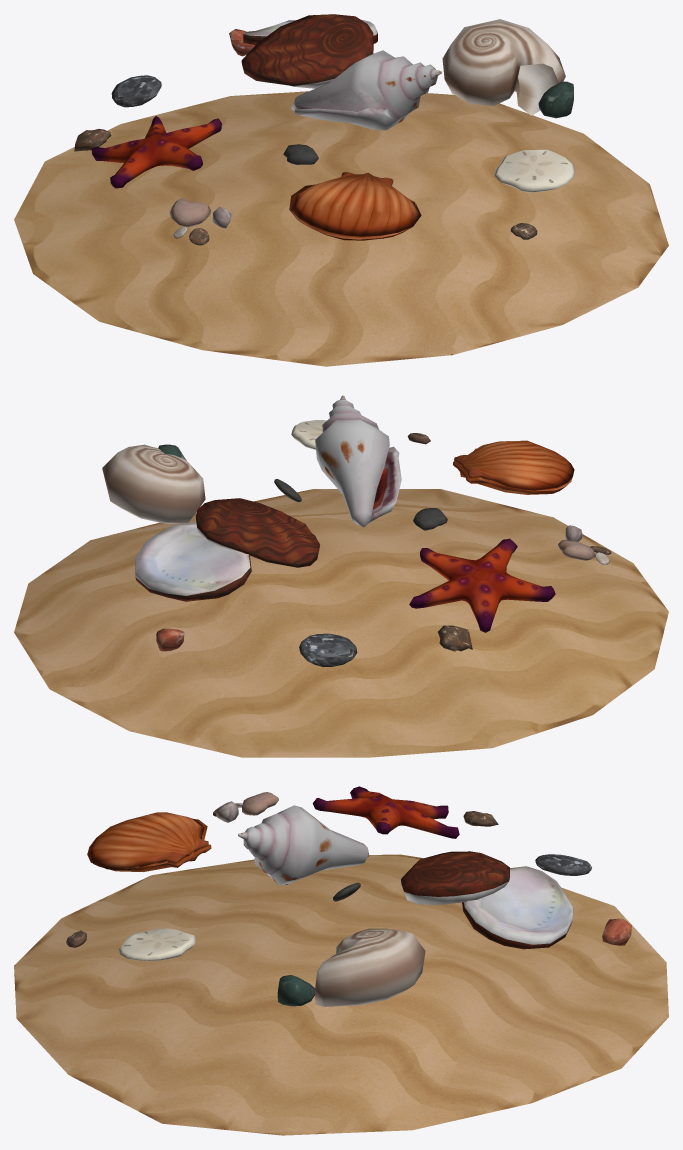
Rendered from seaSideHandPaintedShells_edit_for_FBX.fbx.
The picture shows the model from 3 angles, top to bottom: view 1: azimuth 30°, elevation 25°; view 2: azimuth 150°, elevation 25°; view 3: azimuth 270°, elevation 25°; orthographic projection.
Parts seen in each view (by area): view 1: sand, seaSideHandPaintedShells_01, seaSideHandPaintedShells_05, seaSideHandPaintedShells_06, seaSideHandPaintedShells_03, seaSideHandPaintedShells_04, seaSideHandPaintedShells_02, Stone_03, Stone_05, Stone_01, Stone_04, Stone_08; view 2: sand, seaSideHandPaintedShells_05, seaSideHandPaintedShells_06, seaSideHandPaintedShells_01, seaSideHandPaintedShells_04, seaSideHandPaintedShells_03, Stone_05, Stone_03, Stone_04, seaSideHandPaintedShells_02, Stone_08, Stone_06; view 3: sand, seaSideHandPaintedShells_05, seaSideHandPaintedShells_01, seaSideHandPaintedShells_06, seaSideHandPaintedShells_03, seaSideHandPaintedShells_04, seaSideHandPaintedShells_02, Stone_03, Stone_01, Stone_05, Stone_06.
Part boxes in pixels (x1,y1,x2,y2): sand: [14, 91, 668, 366]; seaSideHandPaintedShells_01: [442, 19, 565, 115]; seaSideHandPaintedShells_05: [241, 14, 377, 88]; seaSideHandPaintedShells_06: [291, 50, 442, 130]; seaSideHandPaintedShells_03: [289, 172, 421, 240]; seaSideHandPaintedShells_04: [92, 116, 221, 188]; seaSideHandPaintedShells_02: [494, 149, 575, 192]; Stone_03: [169, 197, 231, 245]; Stone_05: [111, 75, 161, 107]; Stone_01: [538, 81, 573, 118]; Stone_04: [74, 129, 111, 151]; Stone_08: [283, 144, 318, 164]; sand: [14, 489, 668, 757]; seaSideHandPaintedShells_05: [135, 498, 319, 601]; seaSideHandPaintedShells_06: [315, 395, 401, 527]; seaSideHandPaintedShells_01: [102, 444, 205, 524]; seaSideHandPaintedShells_04: [409, 538, 555, 632]; seaSideHandPaintedShells_03: [453, 440, 574, 494]; Stone_05: [299, 633, 357, 667]; Stone_03: [558, 525, 611, 564]; Stone_04: [438, 625, 472, 651]; seaSideHandPaintedShells_02: [291, 420, 326, 449]; Stone_08: [413, 508, 447, 530]; Stone_06: [156, 628, 184, 651]; sand: [14, 854, 668, 1135]; seaSideHandPaintedShells_05: [401, 851, 573, 949]; seaSideHandPaintedShells_01: [315, 928, 425, 1006]; seaSideHandPaintedShells_06: [238, 805, 369, 885]; seaSideHandPaintedShells_03: [87, 812, 211, 871]; seaSideHandPaintedShells_04: [312, 786, 459, 838]; seaSideHandPaintedShells_02: [118, 928, 196, 961]; Stone_03: [213, 792, 278, 822]; Stone_01: [277, 975, 314, 1006]; Stone_05: [535, 854, 591, 875]; Stone_06: [602, 918, 631, 945].
Size of the model in its own units: 818 by 277 by 818.
